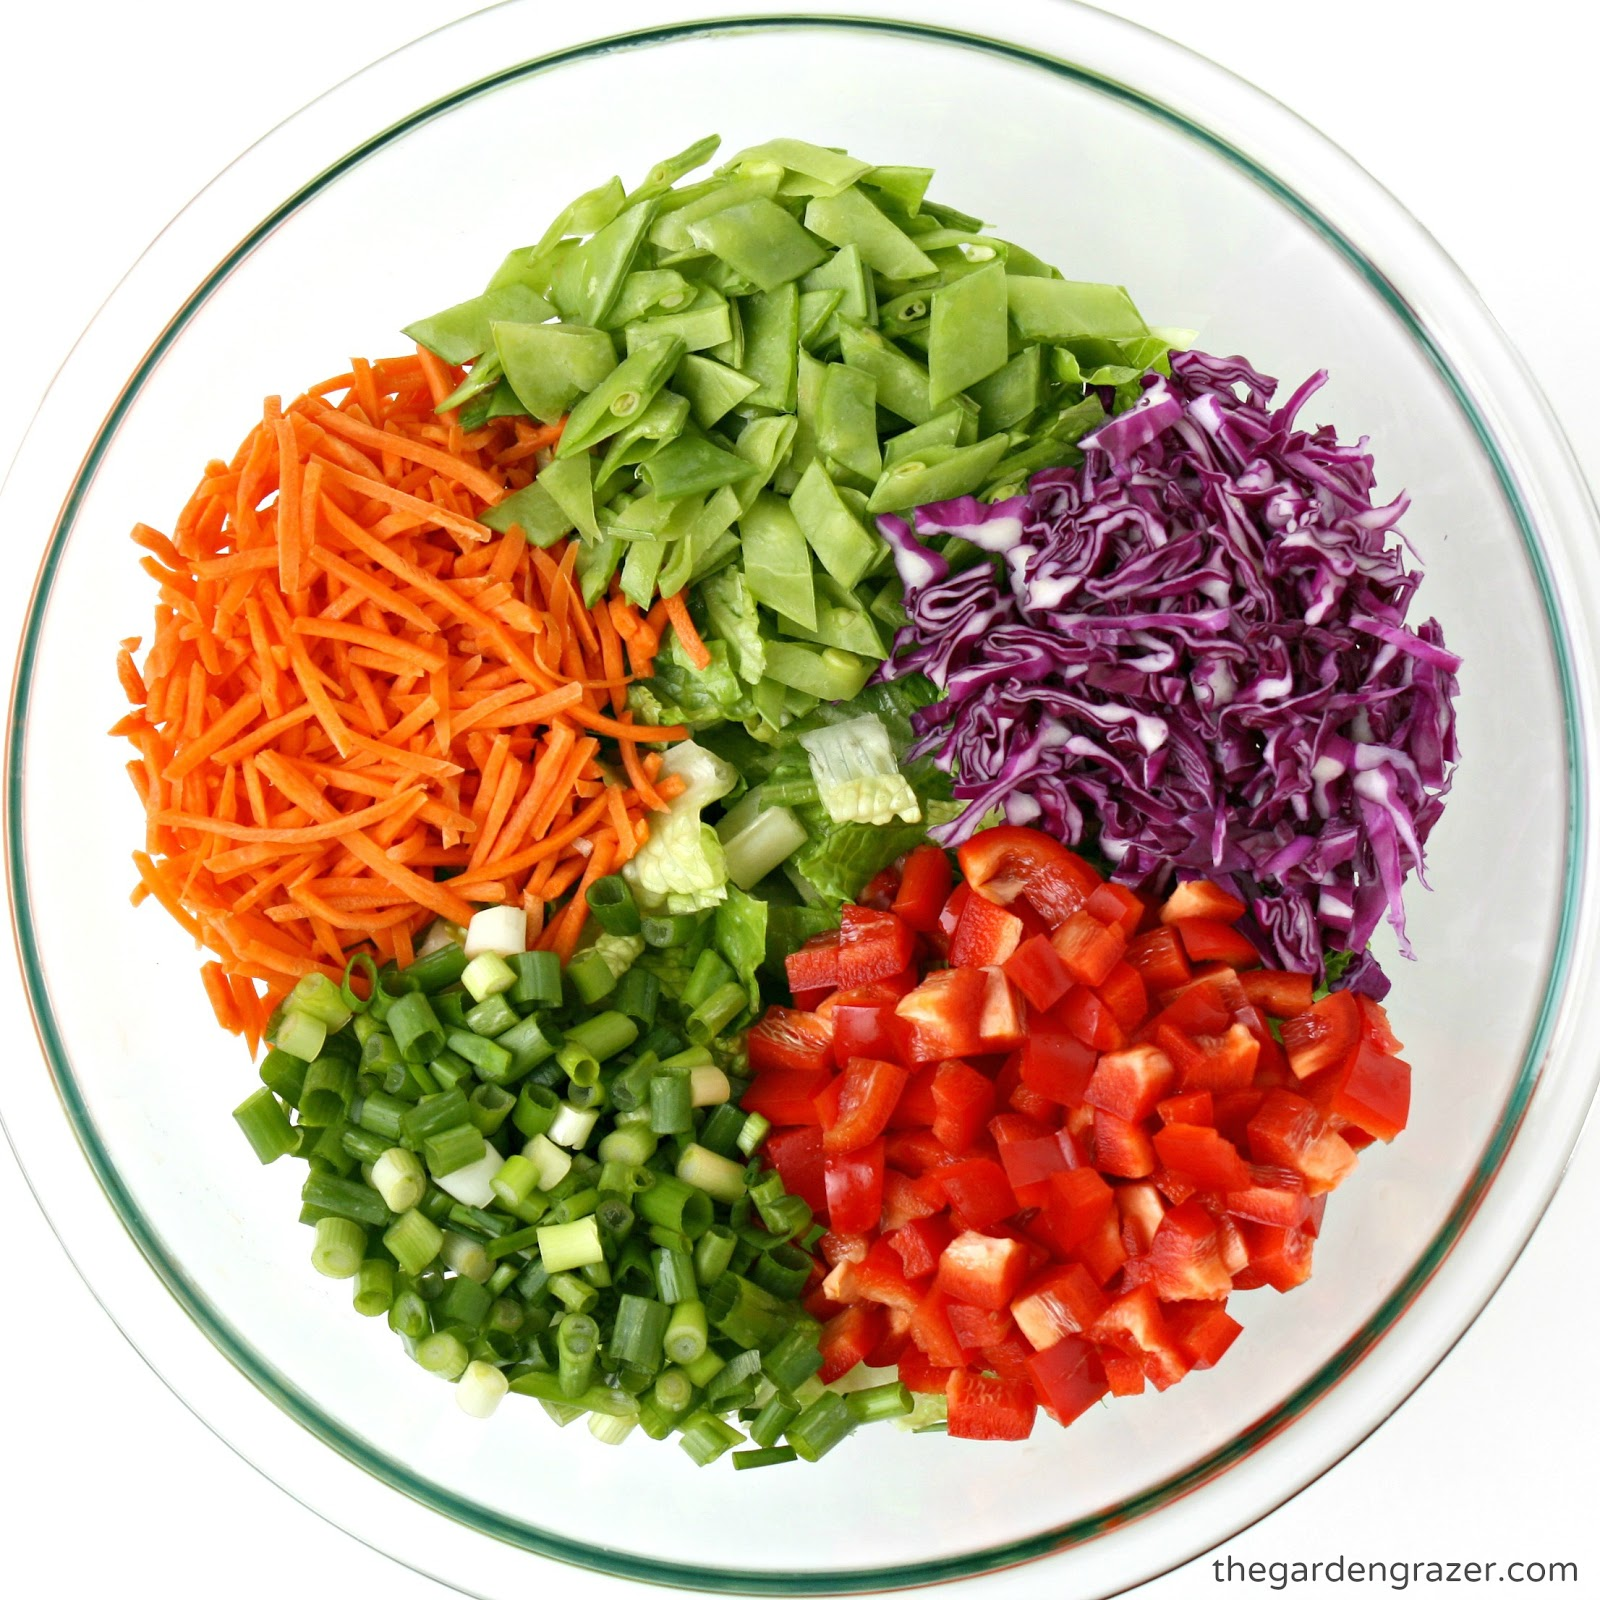chopped lettuce: (447, 198, 1144, 738)
